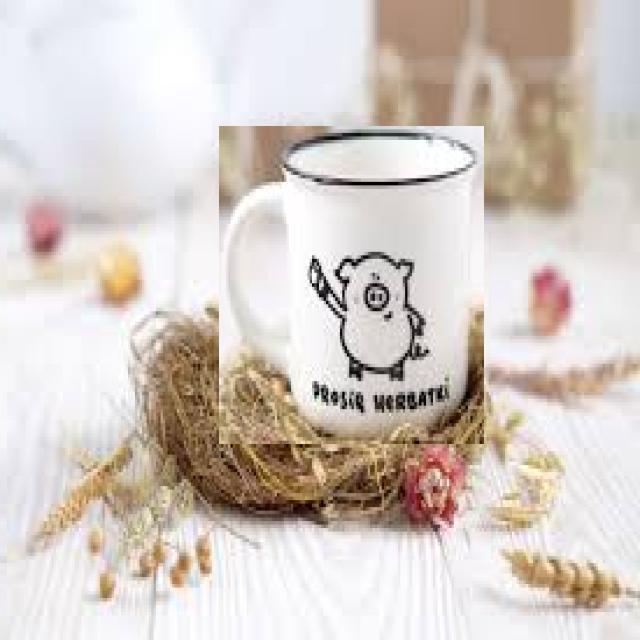Coffee Mug: (225, 131, 479, 439)
